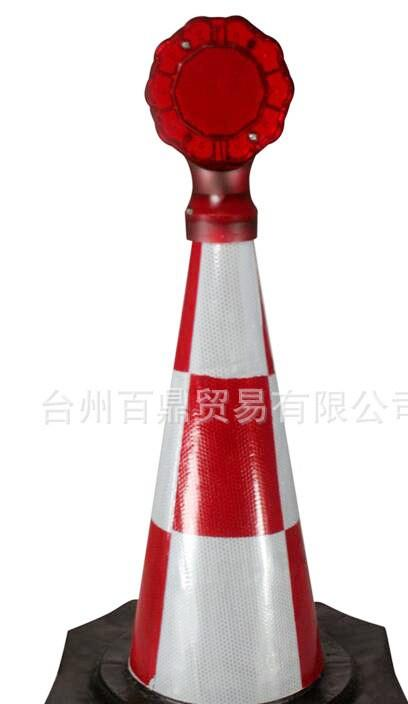cone_barrel: (120, 126, 330, 703)
